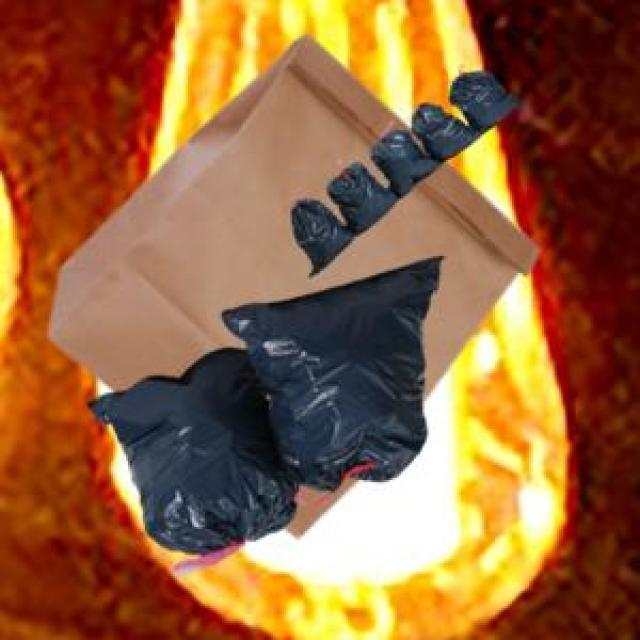miscellaneous trash: (83, 254, 436, 572), (288, 68, 514, 273)
paper: (45, 30, 536, 533)
